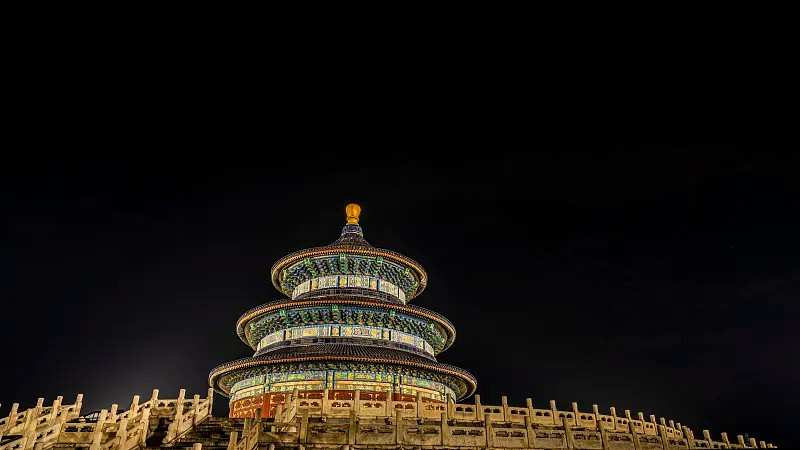Heaven: (206, 202, 478, 422)
